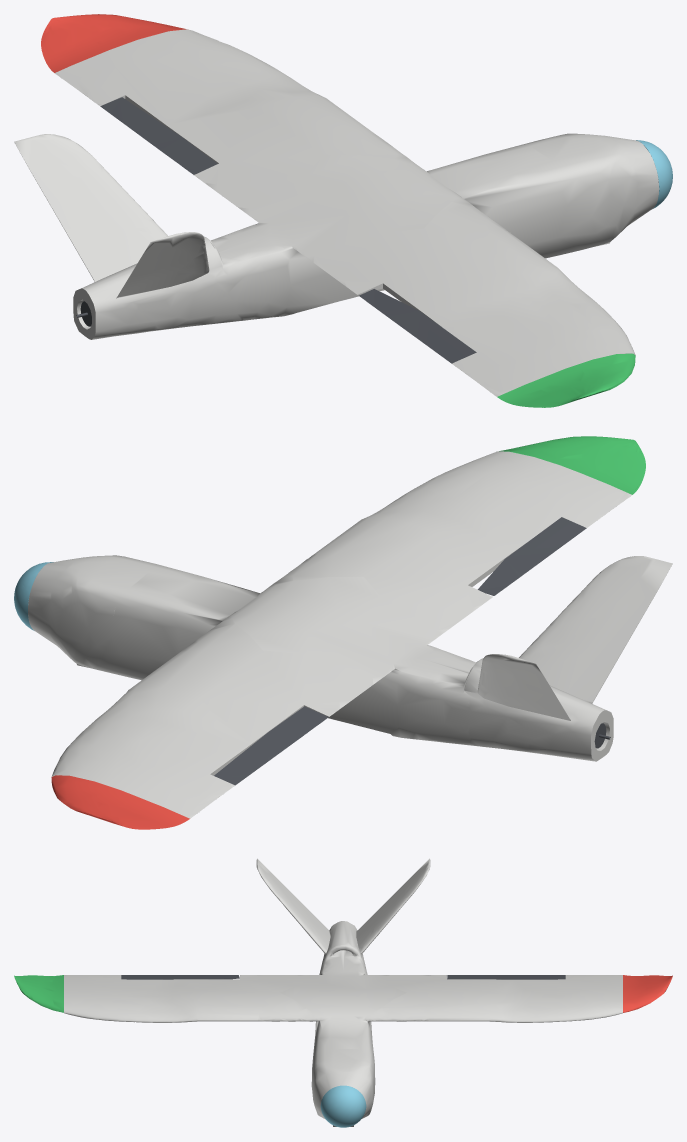
The model's file is sahi-siha.glb.
3 renders of one model, top to bottom at view 1: azimuth 30°, elevation 25°; view 2: azimuth 150°, elevation 25°; view 3: azimuth 270°, elevation 25°, orthographic. The views are drawn at different scales.
Size of the model in its own units: 1.12 by 0.3153 by 1.72.
